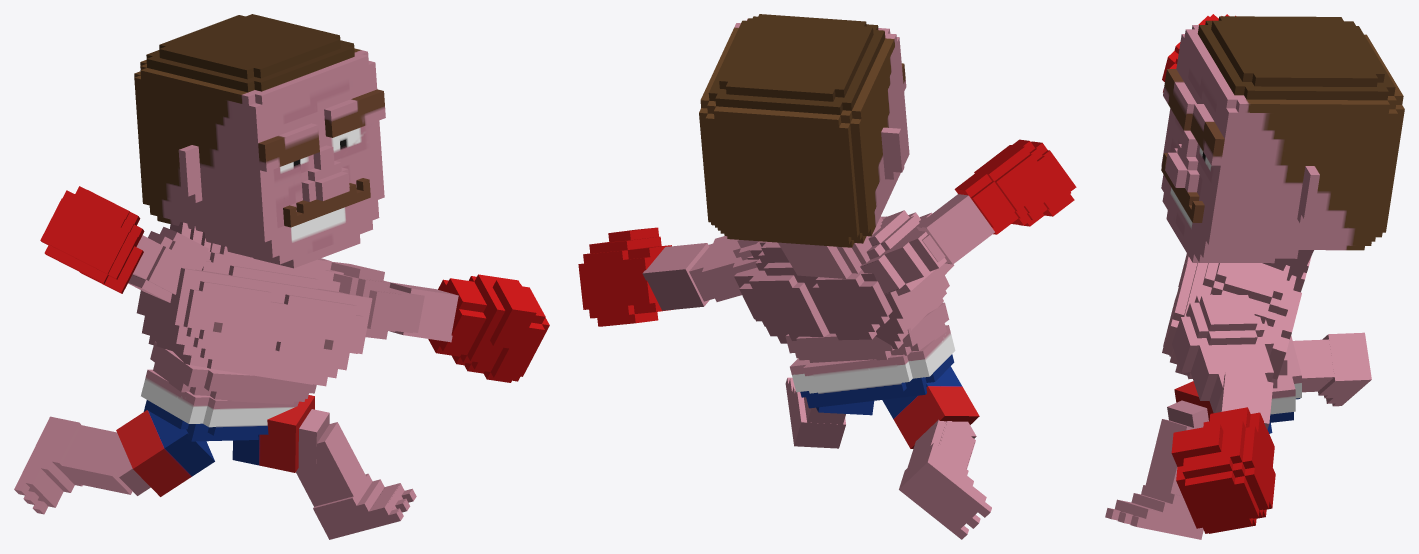
The model's file is ordinary.fbx.
3 renders of one model, left to right at view 1: azimuth 30°, elevation 25°; view 2: azimuth 150°, elevation 25°; view 3: azimuth 270°, elevation 25°, orthographic. The views are drawn at different scales.
Visible parts, largest first — view 1: russian; view 2: russian; view 3: russian.
Part boxes in pixels (left/top/right/bottom): russian: left=14, top=14, right=549, bottom=539; russian: left=578, top=14, right=1076, bottom=539; russian: left=1105, top=14, right=1404, bottom=539.
Size of the model in its own units: 607 by 543 by 304.
Materials: 1 (1 with a texture image).
